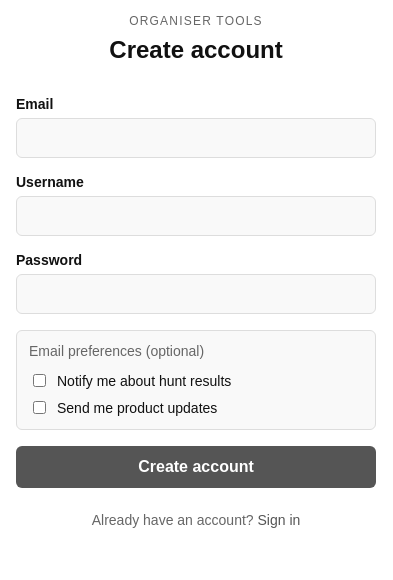
SignupPage › shows an error on signup failure
Type "x@b.com" into the field labelled "Email". click: (196, 138)
box: [16,118,376,158]
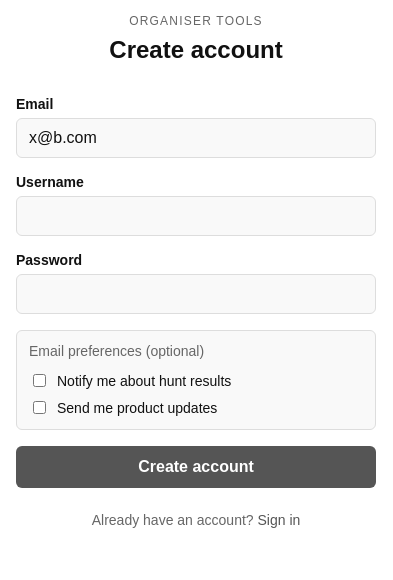
Type "x" into the field labelled "Username". click: (196, 216)
box: [16,196,376,236]
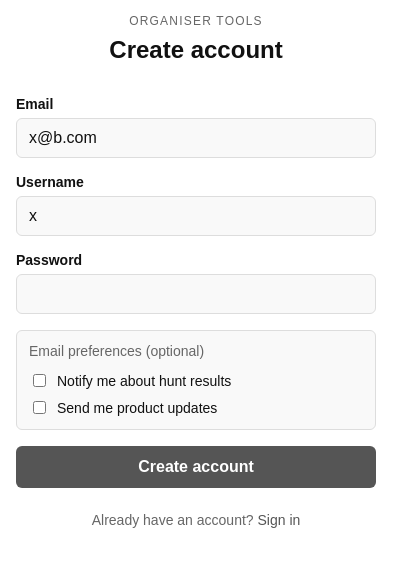
Type "password123" into the password field labelled "Password". click: (196, 294)
box: [16,274,376,314]
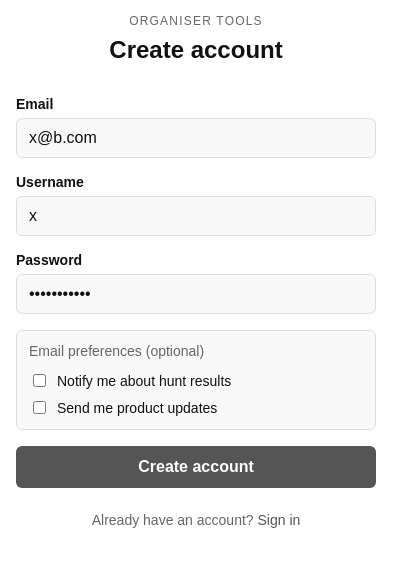
Submit the form
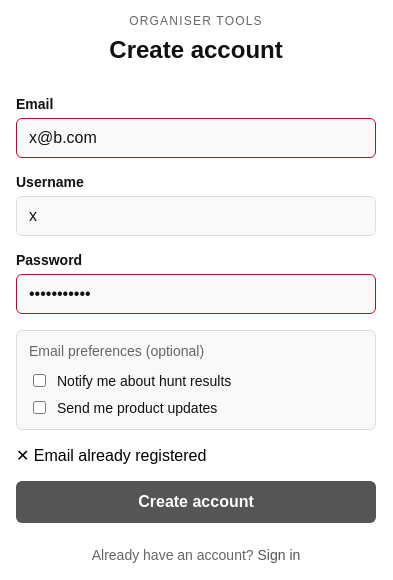
Expected: the text "✕ Email already registered" is shown, [16,447,206,464]
